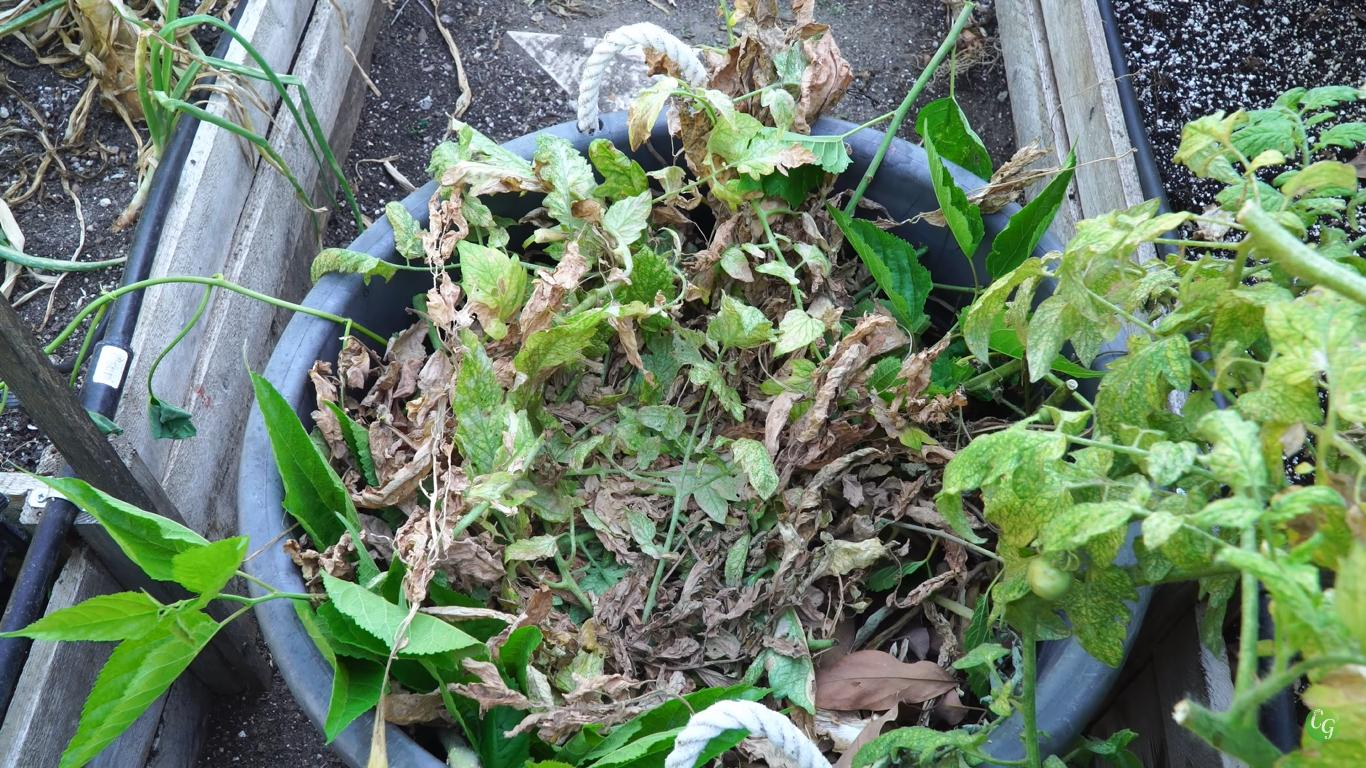Spider Mites: (928, 423, 1069, 544), (1263, 273, 1366, 426), (1005, 432, 1119, 548), (1097, 331, 1194, 445), (1058, 561, 1141, 669), (960, 256, 1042, 365), (449, 325, 509, 472), (455, 236, 528, 343), (512, 304, 610, 377), (532, 128, 599, 232), (847, 719, 989, 768), (1231, 356, 1325, 424), (765, 607, 819, 717), (1197, 406, 1269, 488), (1041, 500, 1134, 556), (736, 122, 819, 182), (1026, 294, 1079, 384), (1169, 107, 1248, 166), (707, 290, 775, 350), (586, 137, 650, 198), (687, 361, 746, 423), (1207, 295, 1265, 357), (620, 245, 678, 306), (310, 247, 398, 287), (1052, 255, 1101, 325), (1117, 209, 1191, 254), (1265, 484, 1347, 523), (1280, 159, 1358, 200), (731, 436, 780, 501), (1123, 268, 1175, 322), (772, 307, 826, 358), (1184, 497, 1265, 530), (1147, 440, 1198, 490), (384, 199, 425, 259), (1141, 507, 1187, 553), (760, 87, 796, 142), (501, 533, 559, 563), (569, 433, 605, 473), (725, 532, 750, 589), (705, 88, 738, 131), (754, 258, 800, 287), (461, 193, 499, 228), (625, 507, 658, 547), (719, 247, 755, 283), (636, 402, 673, 432), (663, 403, 688, 441)
